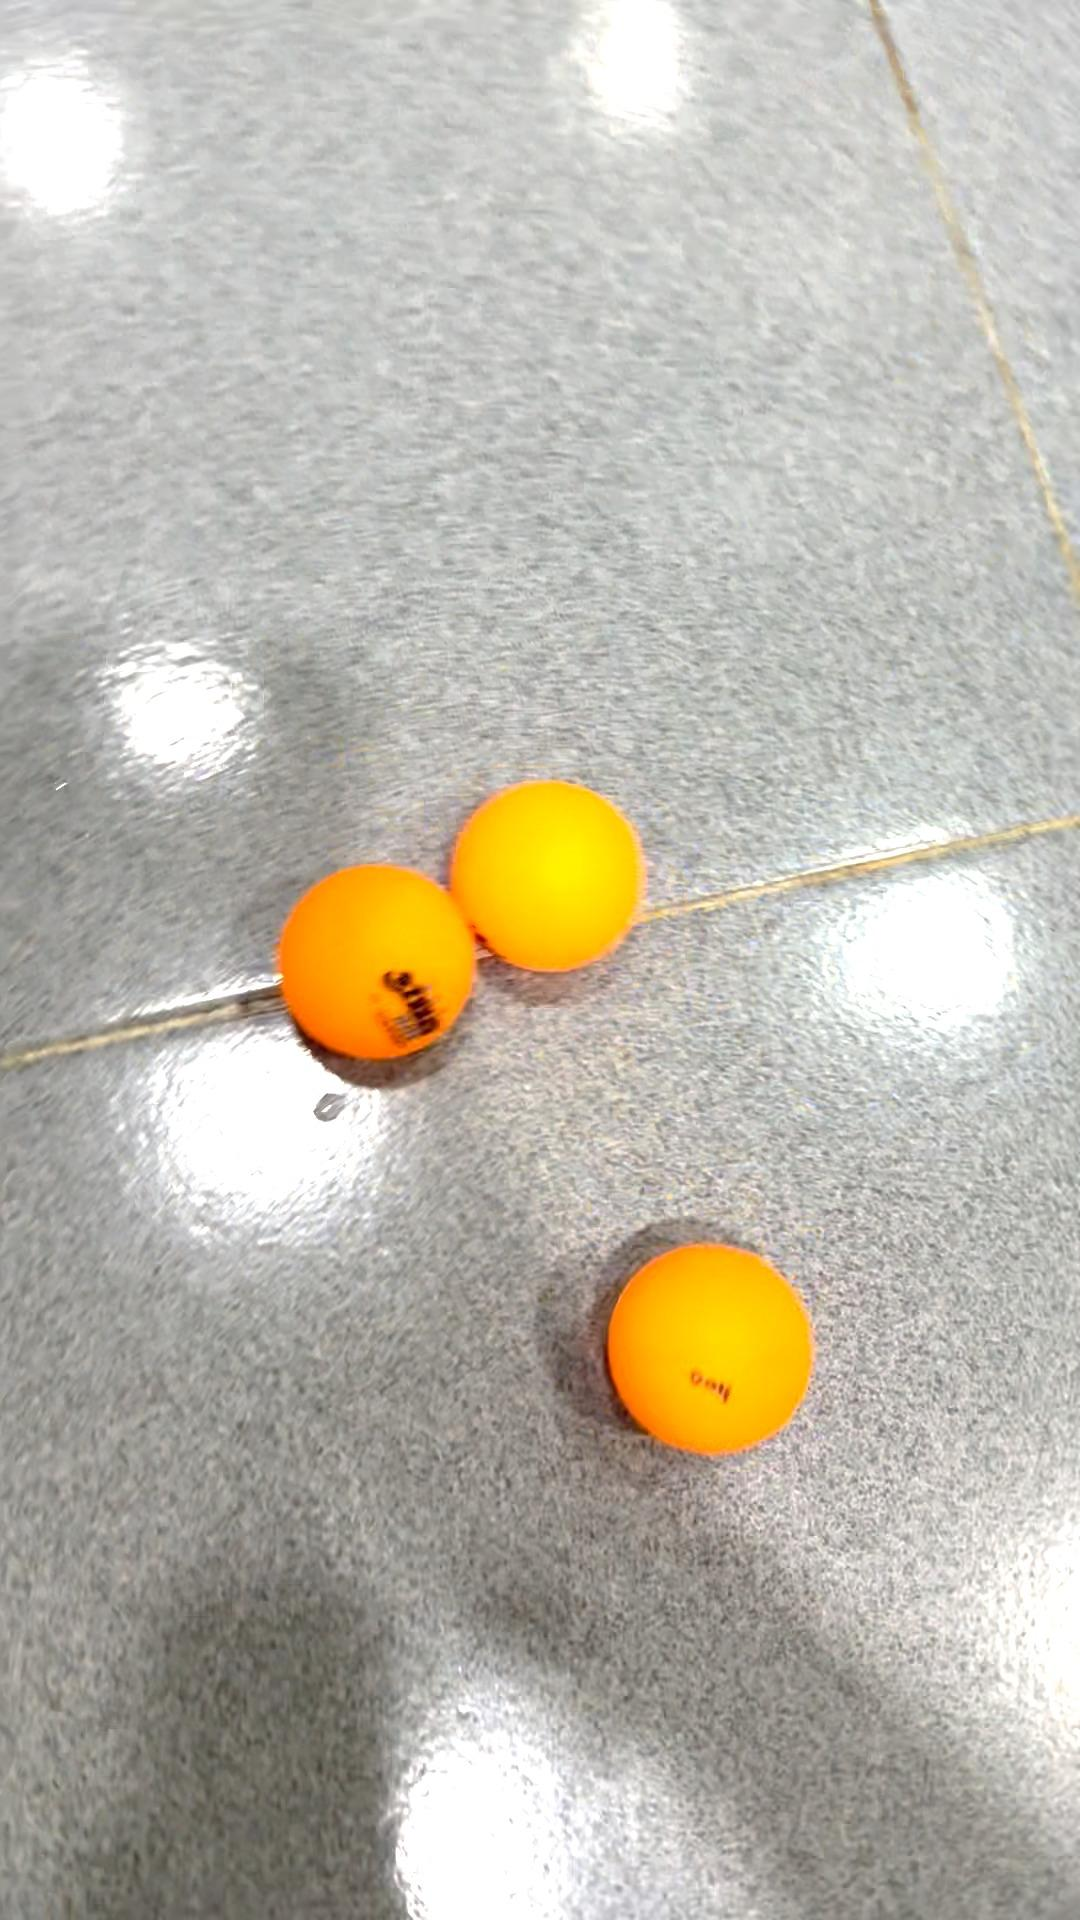oball: (595, 1228, 822, 1461), (272, 857, 481, 1087), (442, 771, 666, 984)
